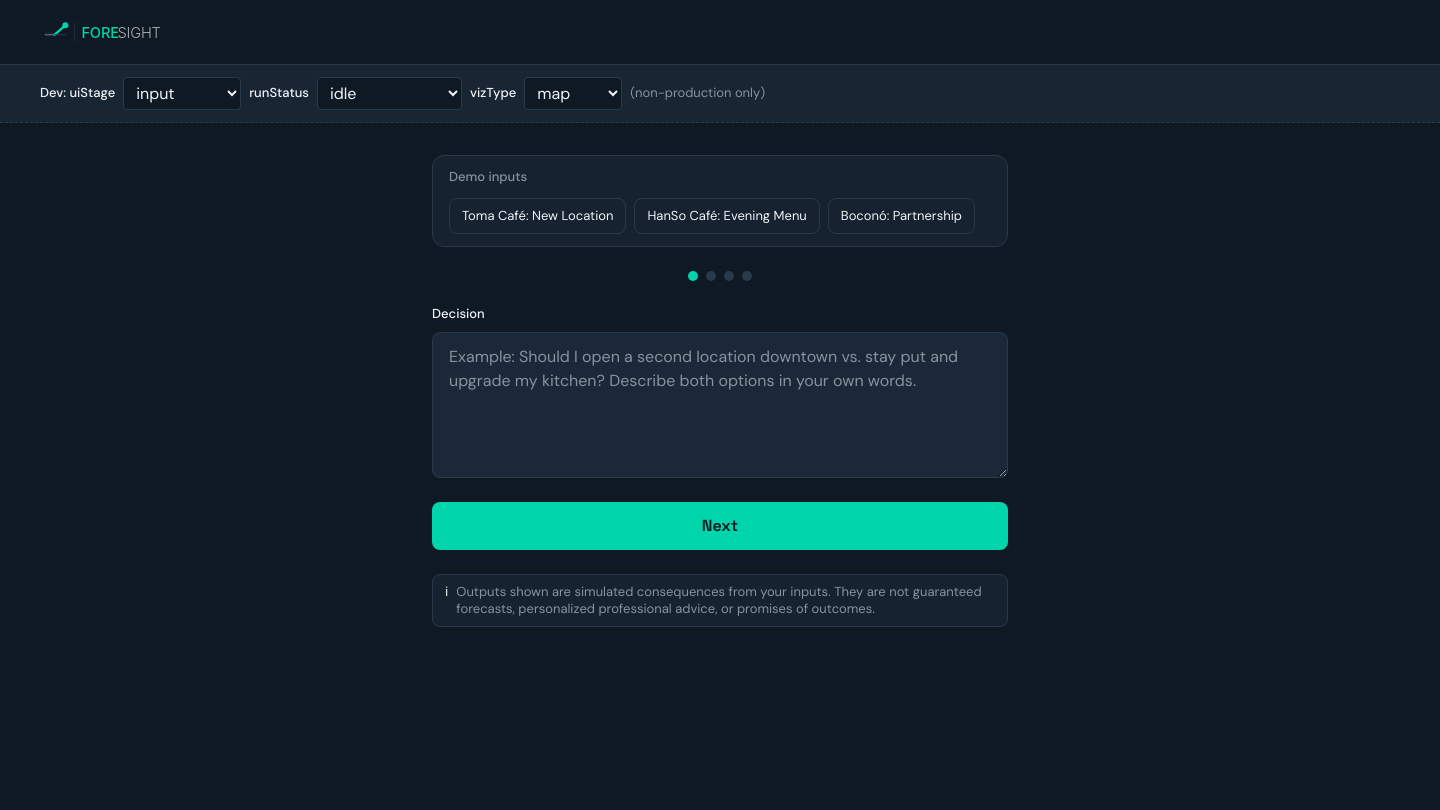
ThinSliceDemo › shows mode badge and map canvas regions in map mode when running
The image size is (1440, 810).
Select "running" in the dropdown labelled "Dev: uiStage". click: [182, 94]
box: [123, 77, 241, 110]
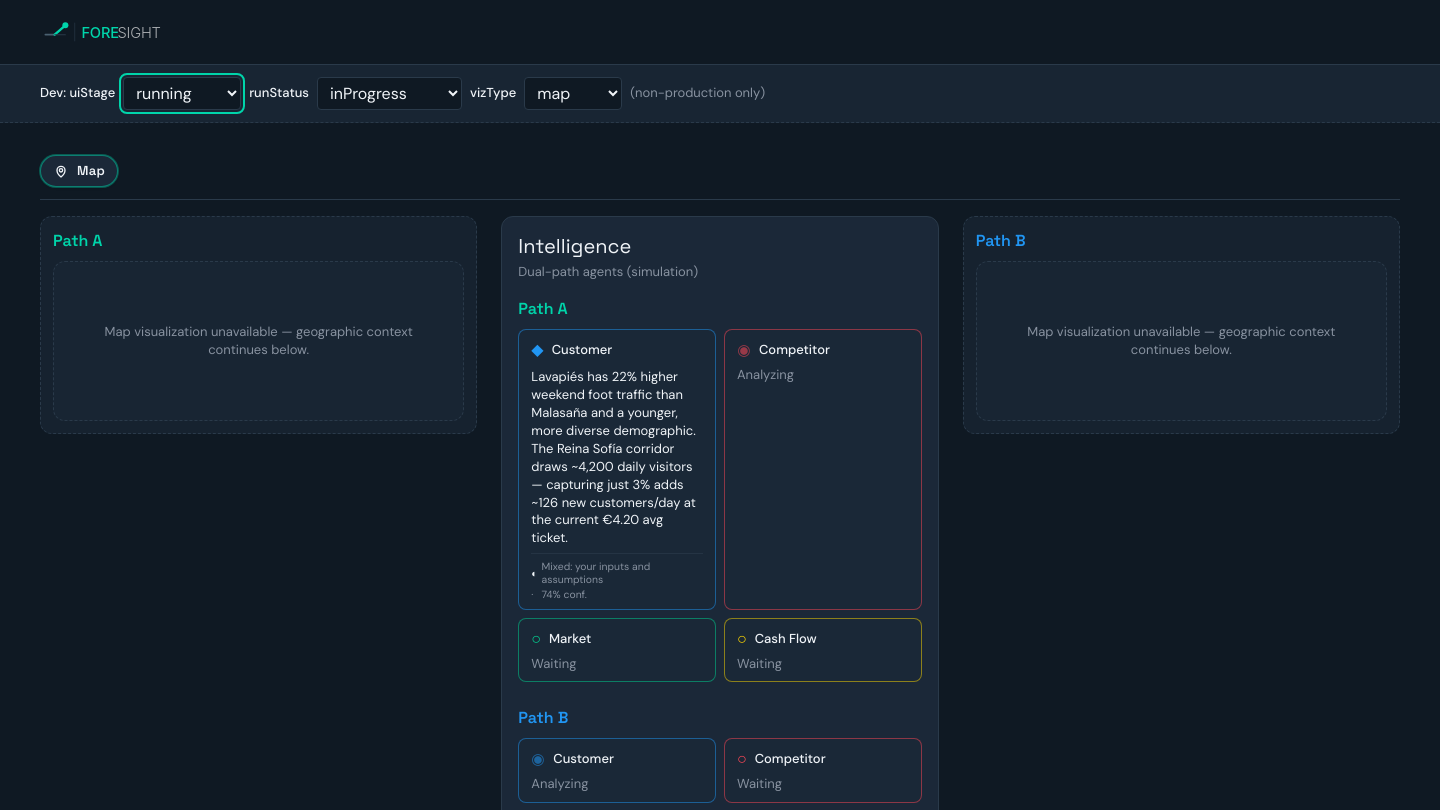
Expected: the text with test id "mode-badge-label" reads "Map", [77, 162, 105, 179]
Expected: the element with test id "viz-orientation-band" is shown, [40, 155, 1400, 200]
Expected: the element with test id "map-canvas-region-left" is shown, [40, 216, 477, 434]
